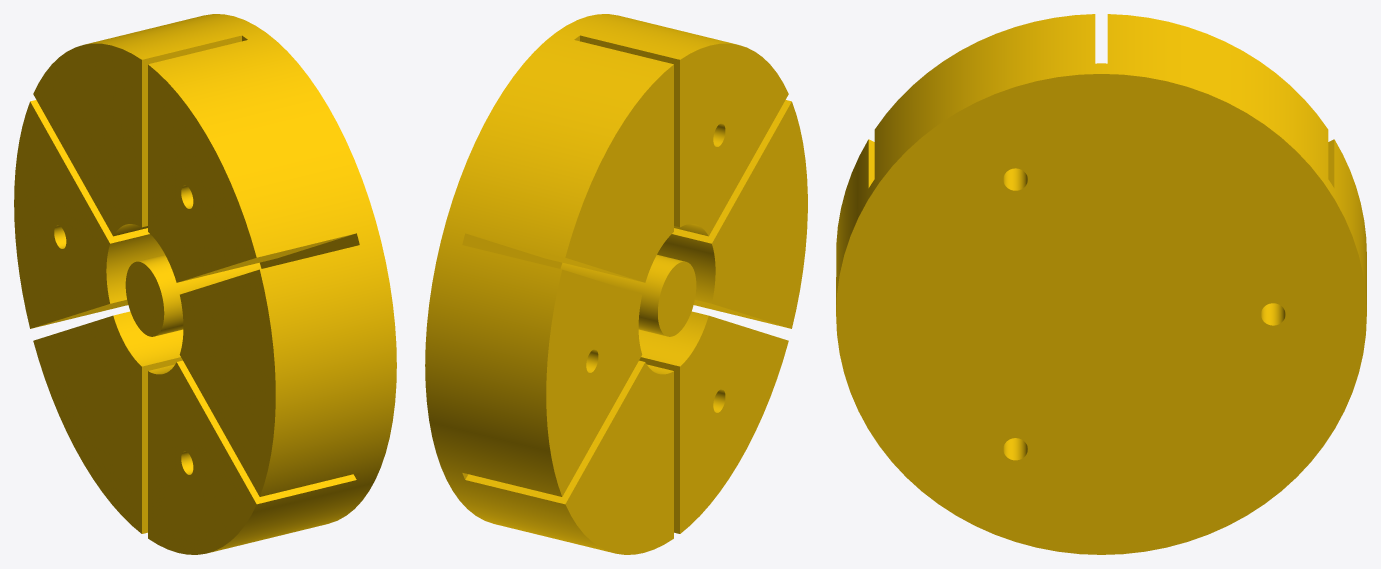
File: assembly.glb
3 renders of one model, left to right at view 1: azimuth 30°, elevation 25°; view 2: azimuth 150°, elevation 25°; view 3: azimuth 270°, elevation 25°, orthographic.
Visible parts, largest first — view 1: evaluated; view 2: evaluated; view 3: evaluated.
Part boxes in pixels (box(x1,y1,x2,y2)): evaluated: box(14, 14, 396, 554); evaluated: box(425, 14, 807, 554); evaluated: box(836, 14, 1366, 554).
Size of the model in its own units: 0.023 by 0.0863 by 0.0863.
